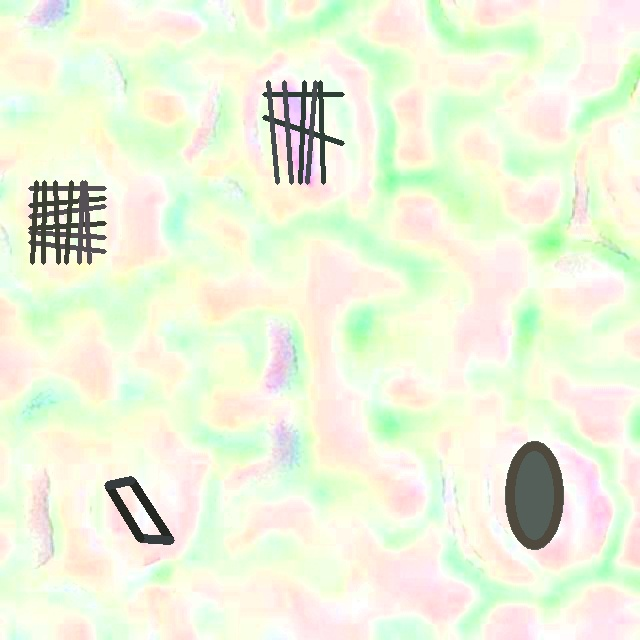close: (505, 440, 563, 549), (105, 476, 173, 542)
open: (262, 81, 344, 184), (29, 180, 105, 264)
